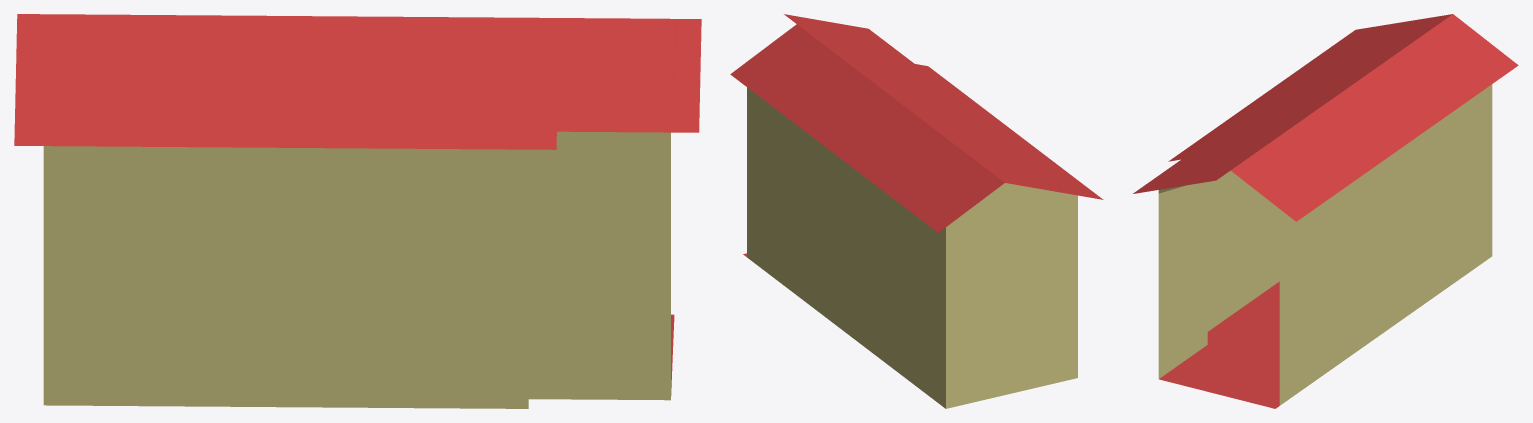
3 views of the same model, side by side, from view 1: azimuth 30°, elevation 25°; view 2: azimuth 150°, elevation 25°; view 3: azimuth 270°, elevation 25° (orthographic). The views are drawn at different scales.
Bounding box in the file's own units: 12.16 × 10.03 × 6.38.
